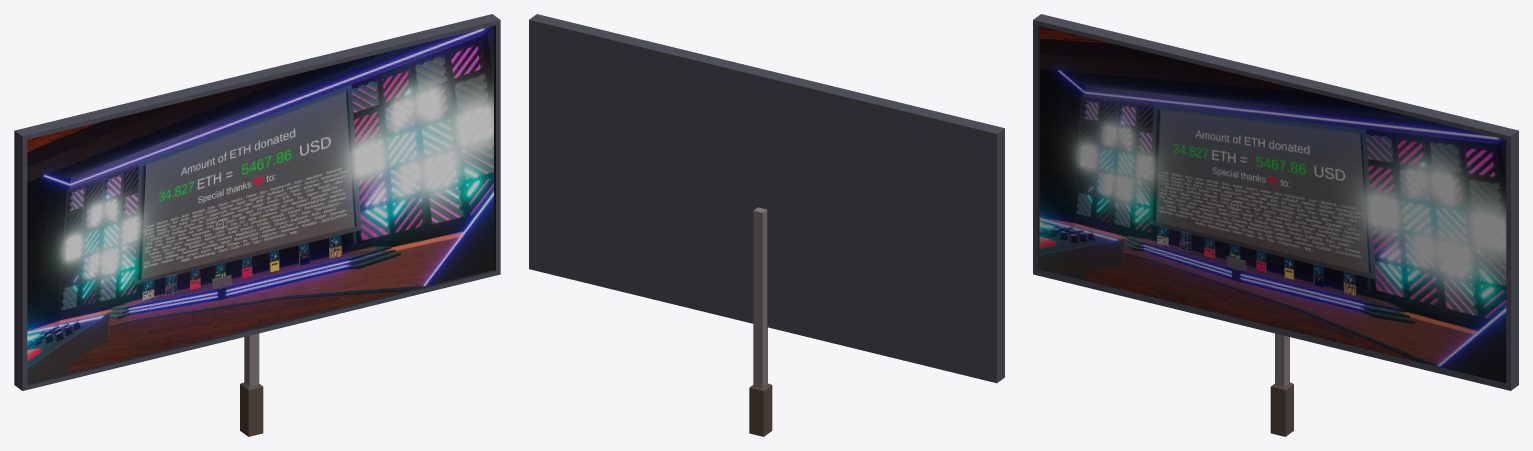
File: covid_event.glb
3 renders of one model, left to right at view 1: azimuth 30°, elevation 25°; view 2: azimuth 150°, elevation 25°; view 3: azimuth 330°, elevation 25°, orthographic. The views are drawn at different scales.
Parts seen in each view (by area): view 1: covid-event; view 2: covid-event; view 3: covid-event.
Part boxes in pixels (<box>): covid-event: <box>14,14,500,436</box>; covid-event: <box>529,14,1004,436</box>; covid-event: <box>1033,14,1518,436</box>.
Size of what is drawn, in the model's own units: 7.08 by 5.12 by 0.3706.
2 materials, 2 textured.
